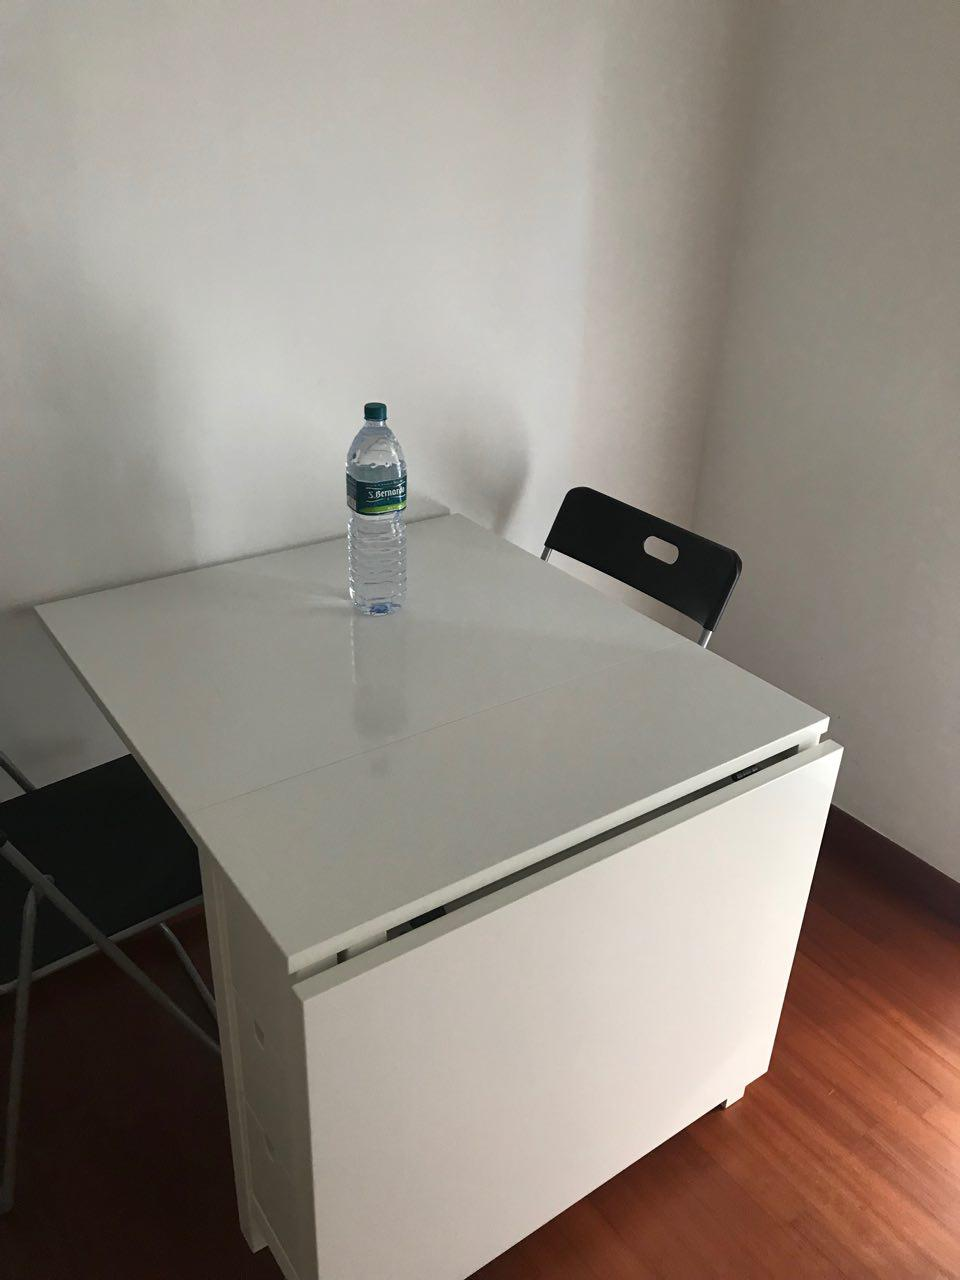san_bernardo: (345, 403, 407, 618)
